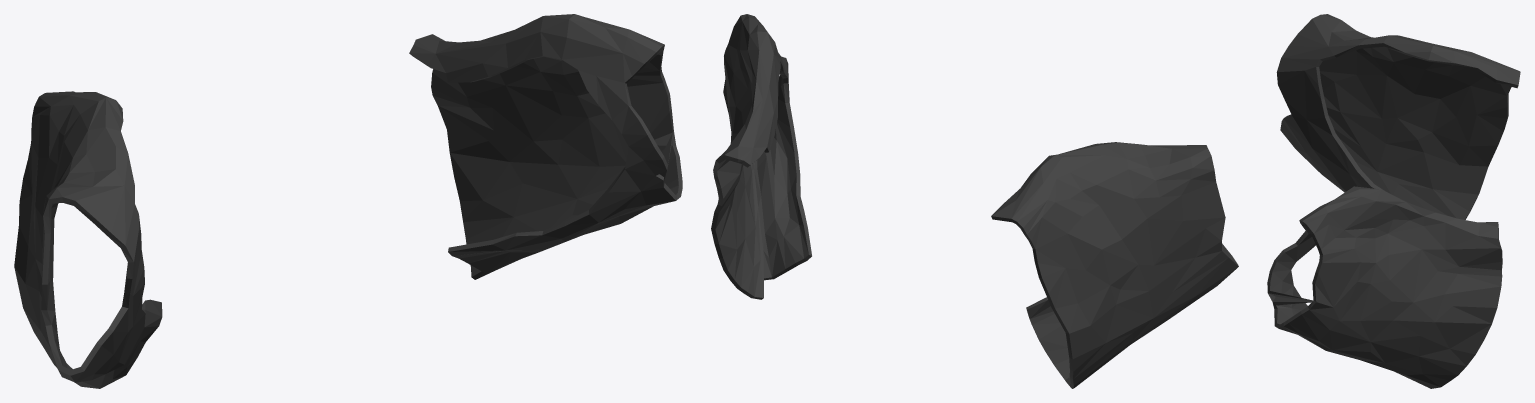
Rendered from l1_cranial_articular_process.glb.
3 views of the same model, side by side, from view 1: azimuth 30°, elevation 25°; view 2: azimuth 150°, elevation 25°; view 3: azimuth 270°, elevation 25° (orthographic). The views are drawn at different scales.
Visible parts, largest first — view 1: l1_cranial_articular_process; view 2: l1_cranial_articular_process; view 3: l1_cranial_articular_process.
Part boxes in pixels (<box>): l1_cranial_articular_process: <box>14,14,682,388</box>; l1_cranial_articular_process: <box>711,14,1238,388</box>; l1_cranial_articular_process: <box>1267,14,1520,388</box>.
Size of the model in its own units: 28.24 by 12.93 by 12.9.
Materials: 1 (1 with a texture image).
